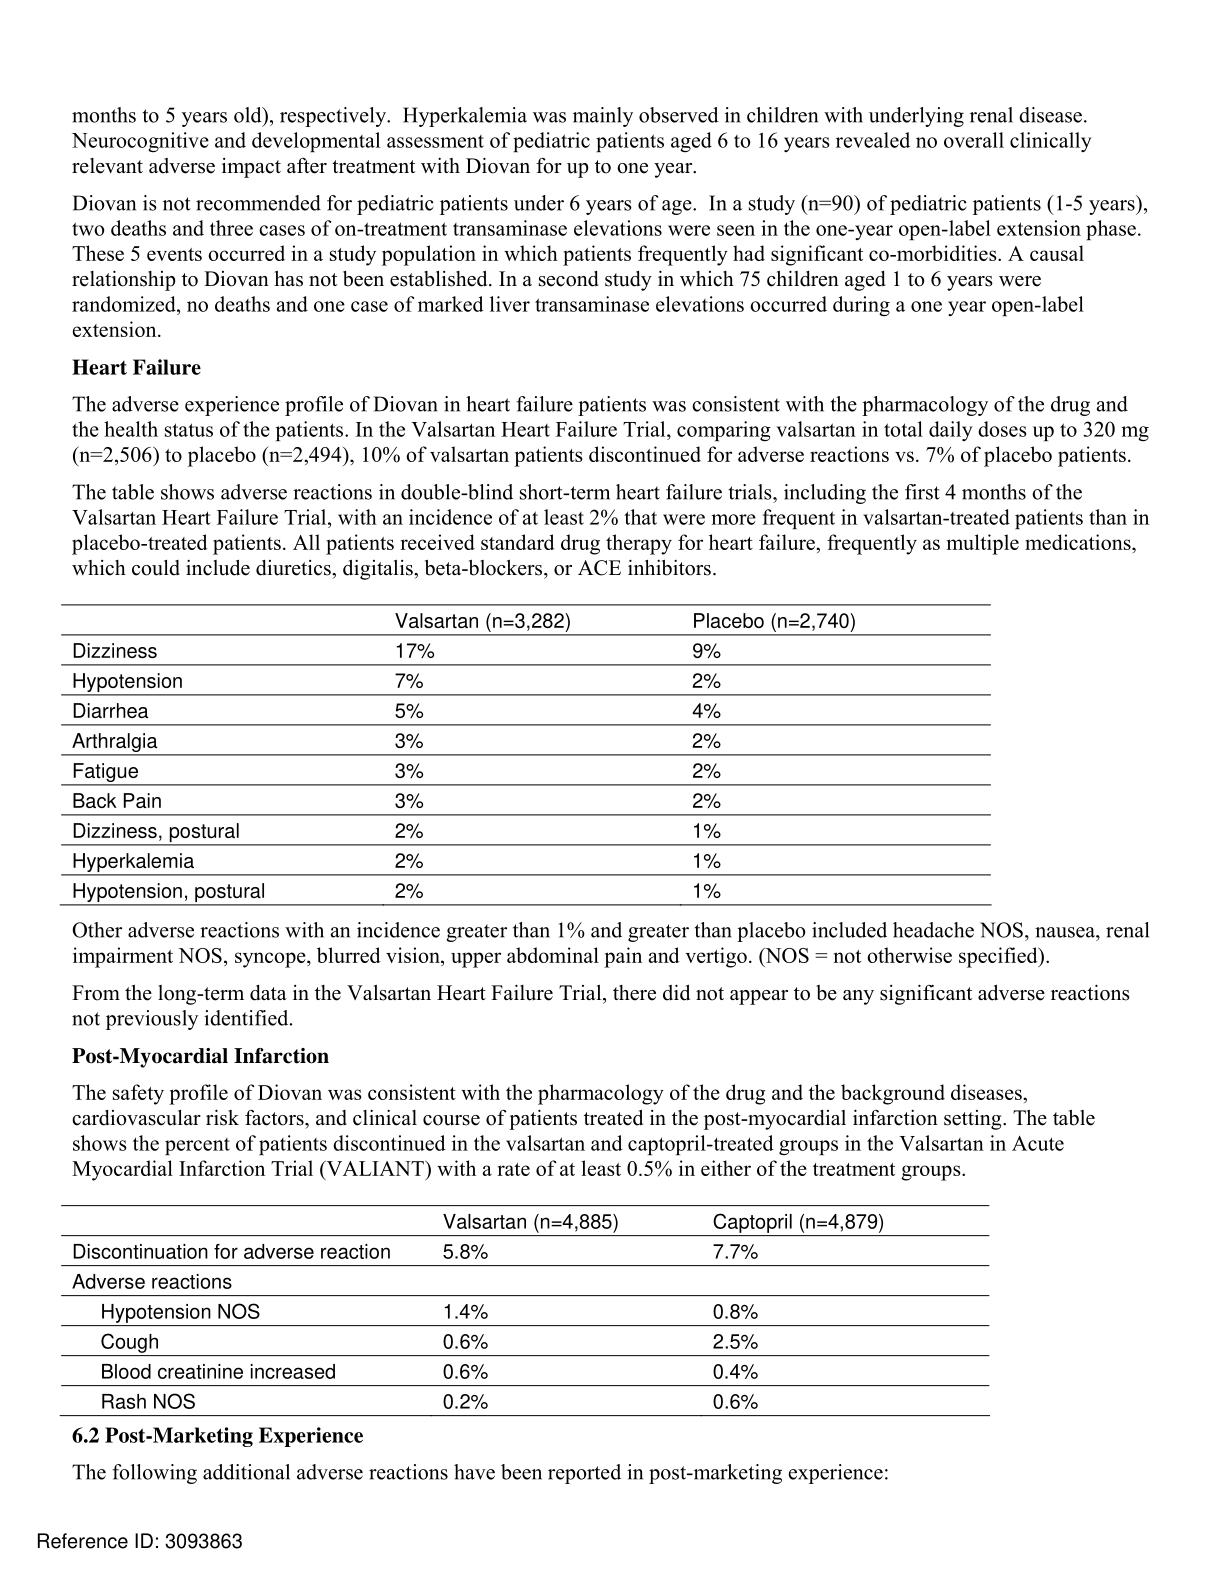partial_lined: (59, 602, 991, 906), (60, 1203, 990, 1417)
